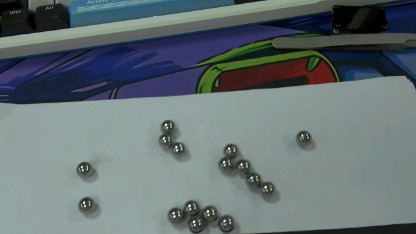ironball: (214, 212, 240, 229), (75, 195, 96, 215), (75, 156, 91, 181), (244, 170, 262, 192), (215, 155, 234, 174), (165, 204, 182, 223), (258, 178, 274, 198), (182, 196, 197, 217), (294, 130, 313, 146), (235, 157, 251, 176), (170, 140, 190, 155), (223, 140, 238, 157), (185, 216, 200, 233), (200, 205, 215, 221), (155, 131, 170, 146), (161, 120, 173, 132)
